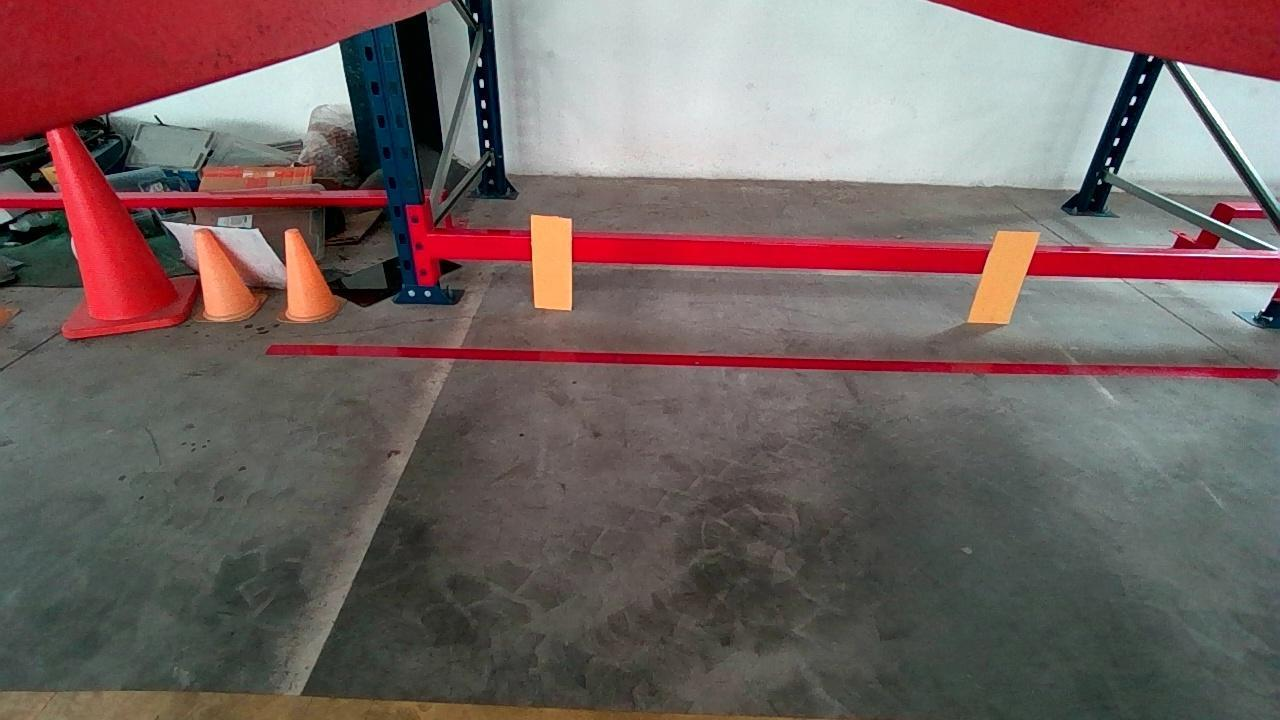h_rack: (430, 233, 1280, 278)
orange_strip: (966, 232, 1042, 323), (531, 217, 570, 308)
red_line: (263, 343, 1278, 379)
